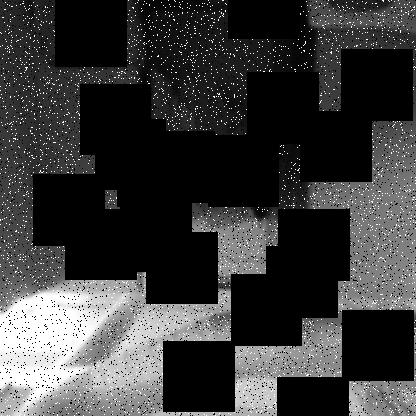Porte: (131, 1, 318, 279)
